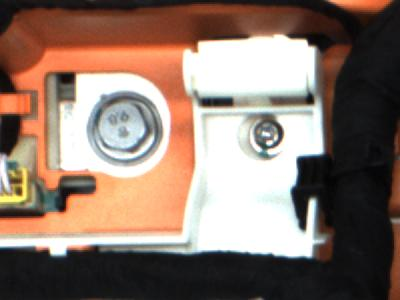nut_b: (82, 89, 171, 167)
screw_m: (241, 115, 294, 157)
